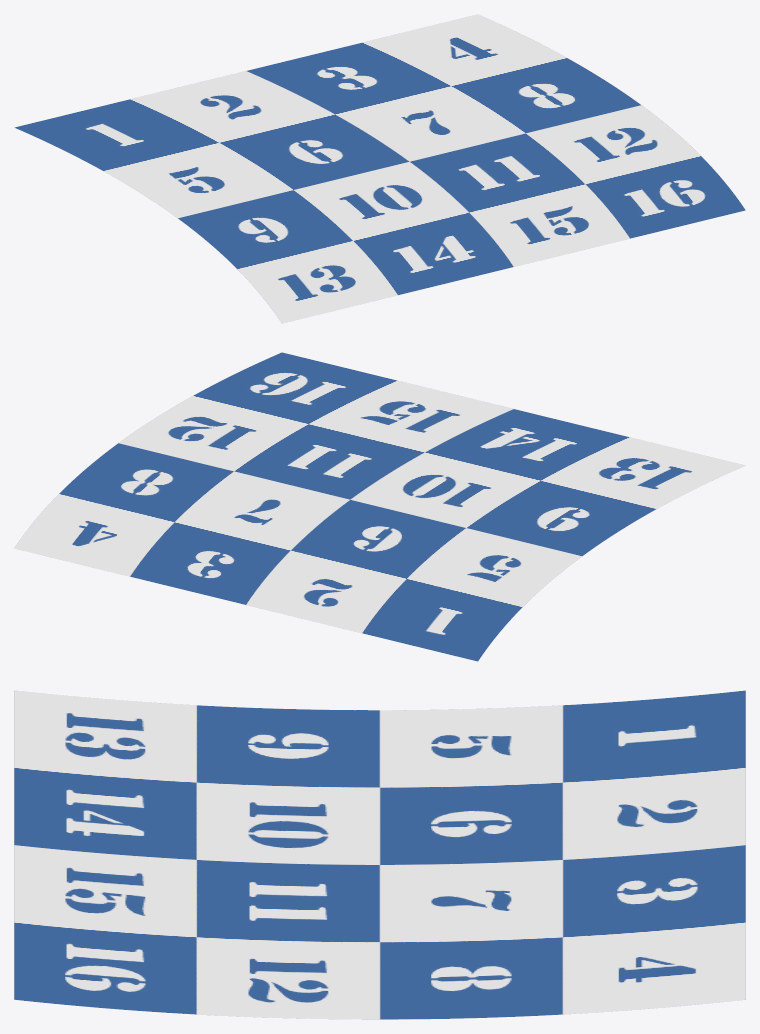
The model's file is Rengoku_Spl_078_Bg_12.fbx.
3 renders of one model, top to bottom at view 1: azimuth 30°, elevation 25°; view 2: azimuth 150°, elevation 25°; view 3: azimuth 270°, elevation 25°, orthographic. The views are drawn at different scales.
Parts seen in each view (by area): view 1: SM_d_e_P0012_V00_C00_SplRgk_c078_Bg_12; view 2: SM_d_e_P0012_V00_C00_SplRgk_c078_Bg_12; view 3: SM_d_e_P0012_V00_C00_SplRgk_c078_Bg_12.
Boxes of the visible parts, bbox=[...] form: SM_d_e_P0012_V00_C00_SplRgk_c078_Bg_12: bbox=[14, 14, 745, 323]; SM_d_e_P0012_V00_C00_SplRgk_c078_Bg_12: bbox=[14, 352, 745, 661]; SM_d_e_P0012_V00_C00_SplRgk_c078_Bg_12: bbox=[14, 690, 745, 1019].
Size of the model in its own units: 106 by 2.79e-07 by 100.
